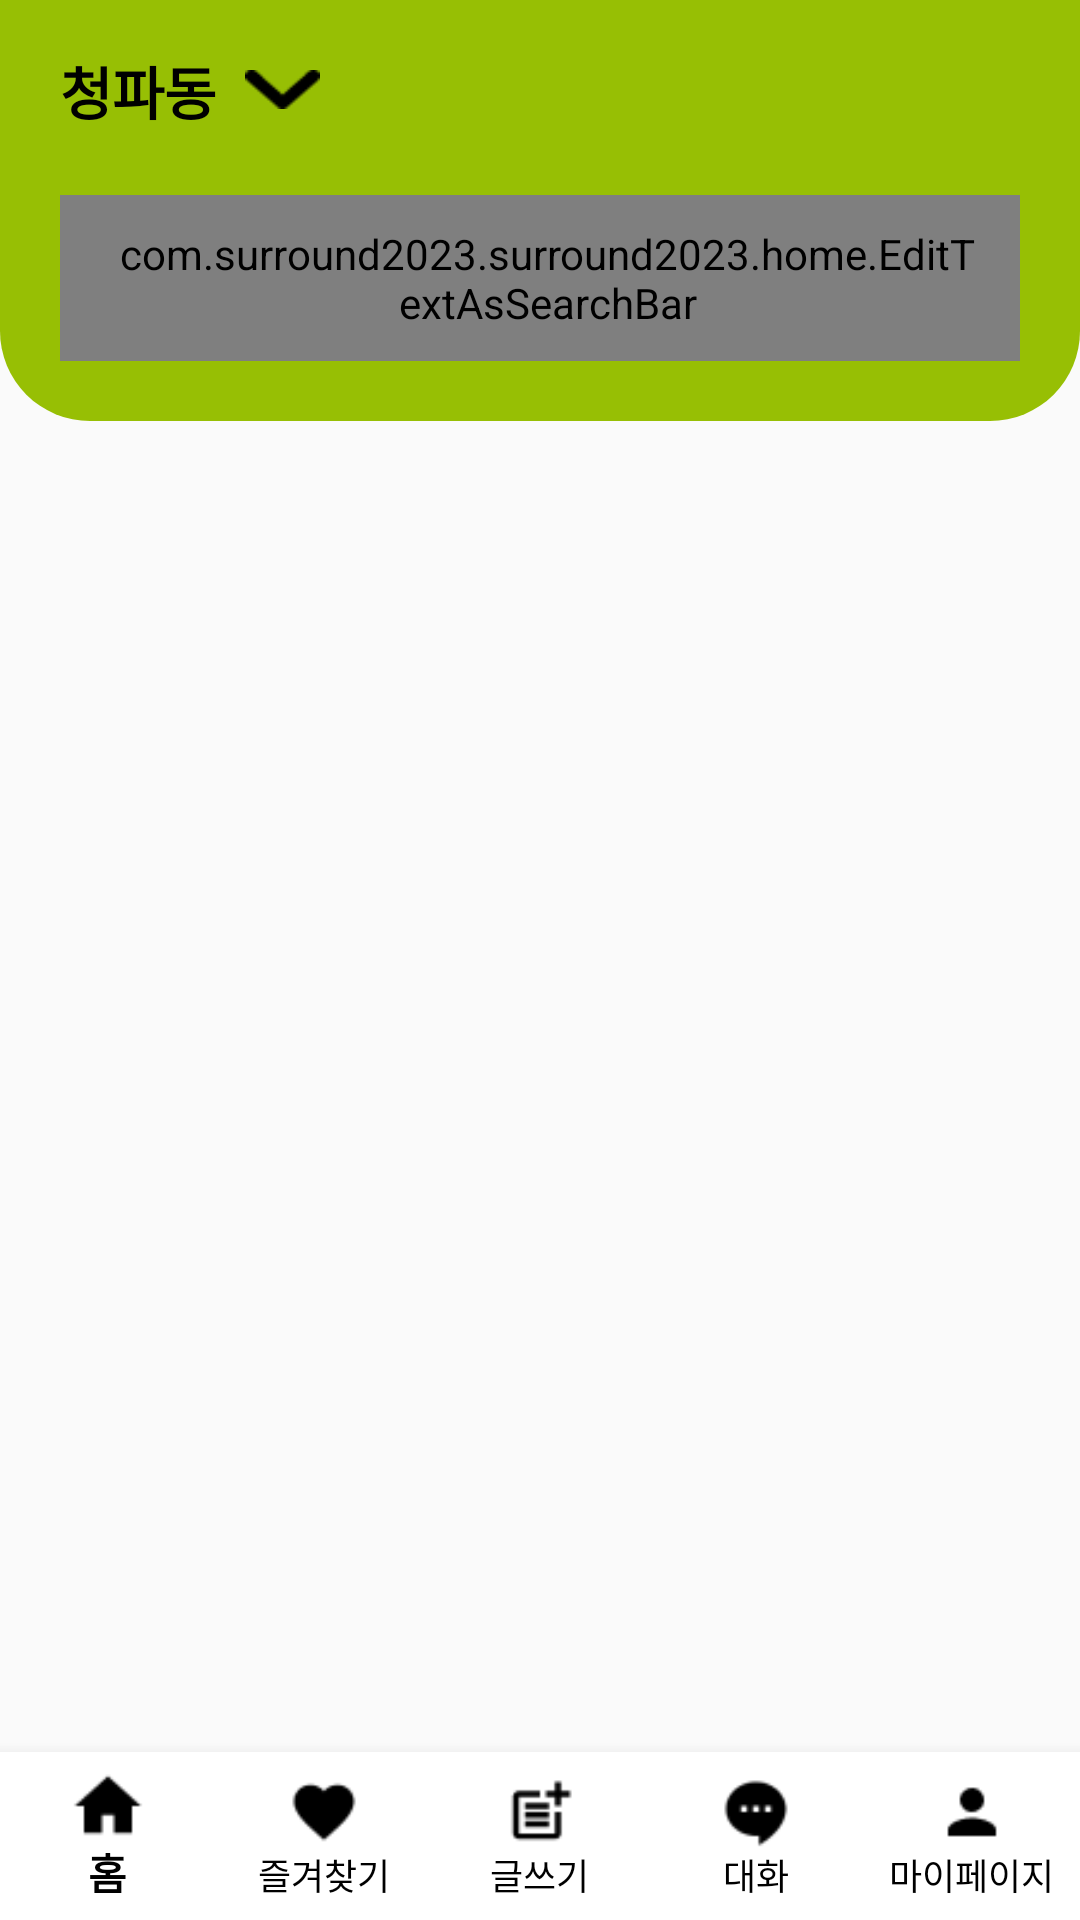

Where icons sit on this 1080px×1920px app screen, as (x1, y1, x2, y2):
dropdown: (245, 70, 320, 109)
